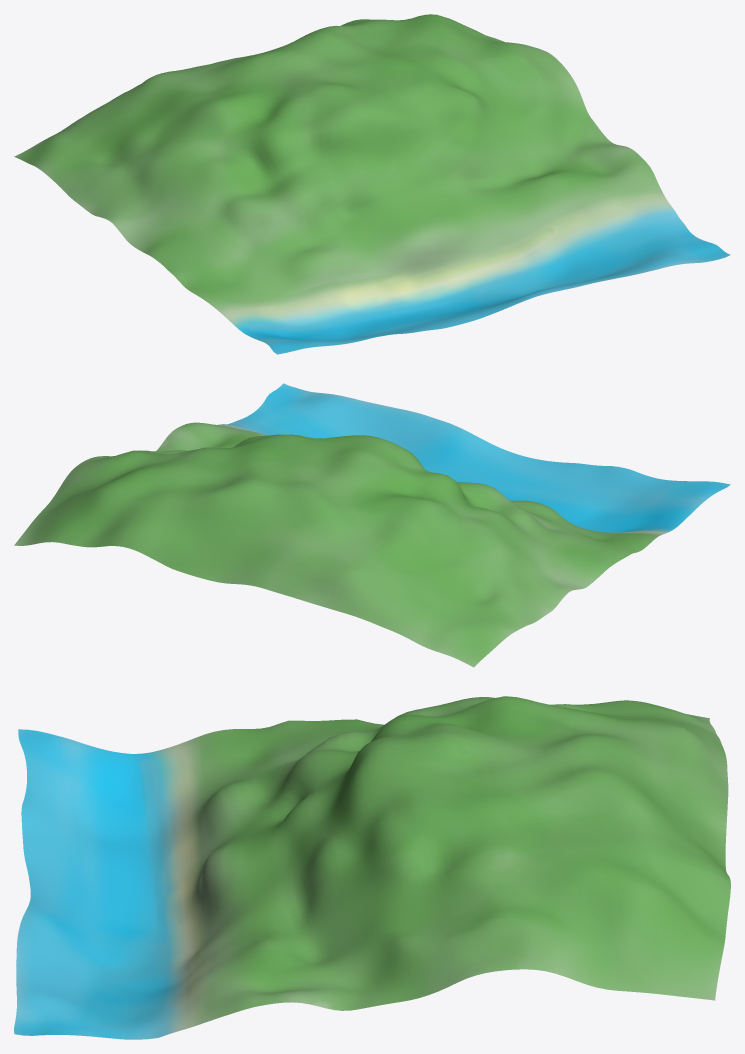
File: beach.glb
3 renders of one model, top to bottom at view 1: azimuth 30°, elevation 25°; view 2: azimuth 150°, elevation 25°; view 3: azimuth 270°, elevation 25°, orthographic. The views are drawn at different scales.
Parts seen in each view (by area): view 1: Beach; view 2: Beach; view 3: Beach.
Boxes of the visible parts, box(x1,y1,x2,y2) form: Beach: box(14, 14, 730, 354); Beach: box(14, 383, 730, 667); Beach: box(14, 696, 730, 1039).
Bounding box in the file's own units: 327 × 91.33 × 325.
Materials: 1 (1 with a texture image).
